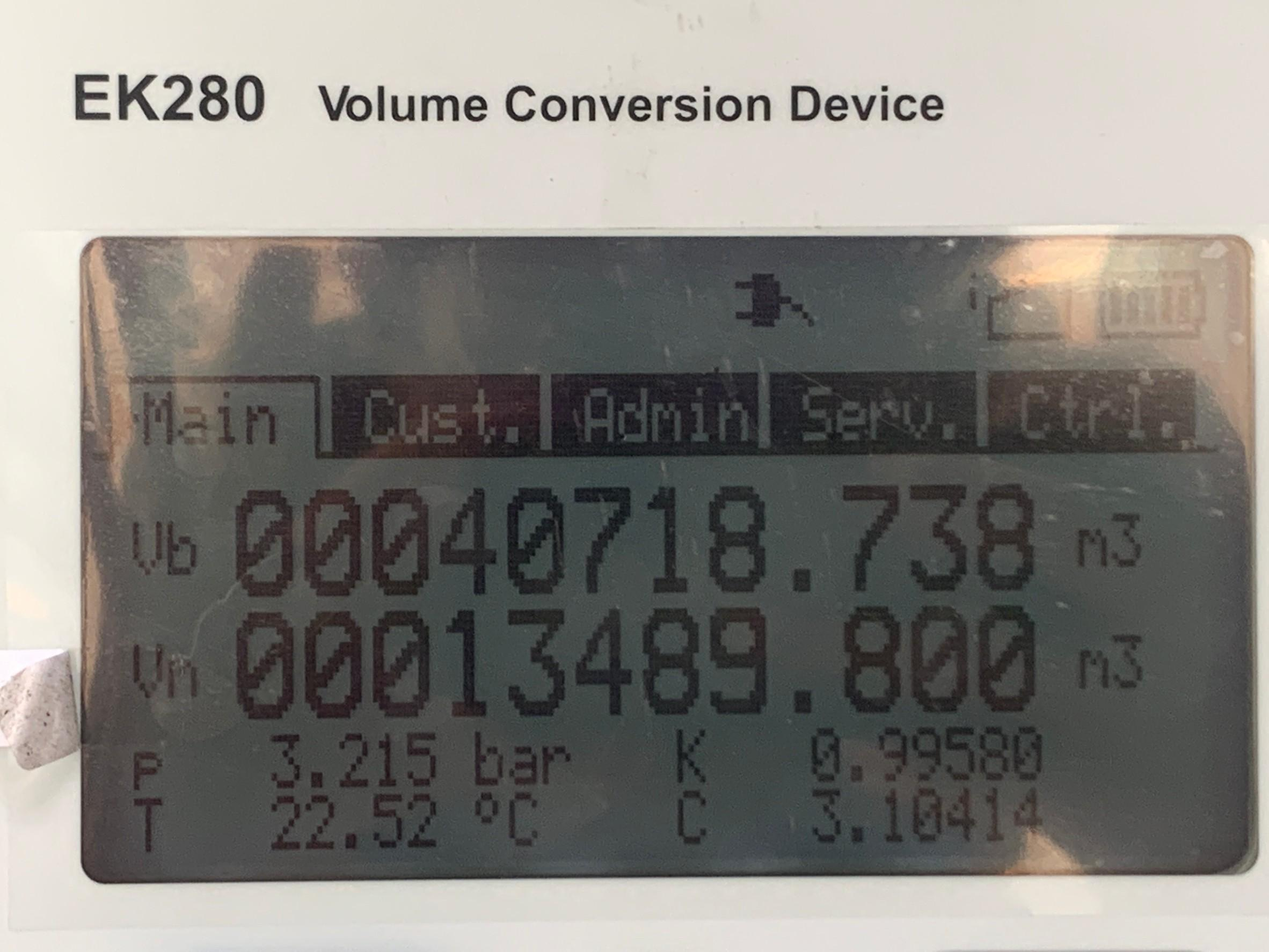digital_screen: (87, 241, 1254, 880)
